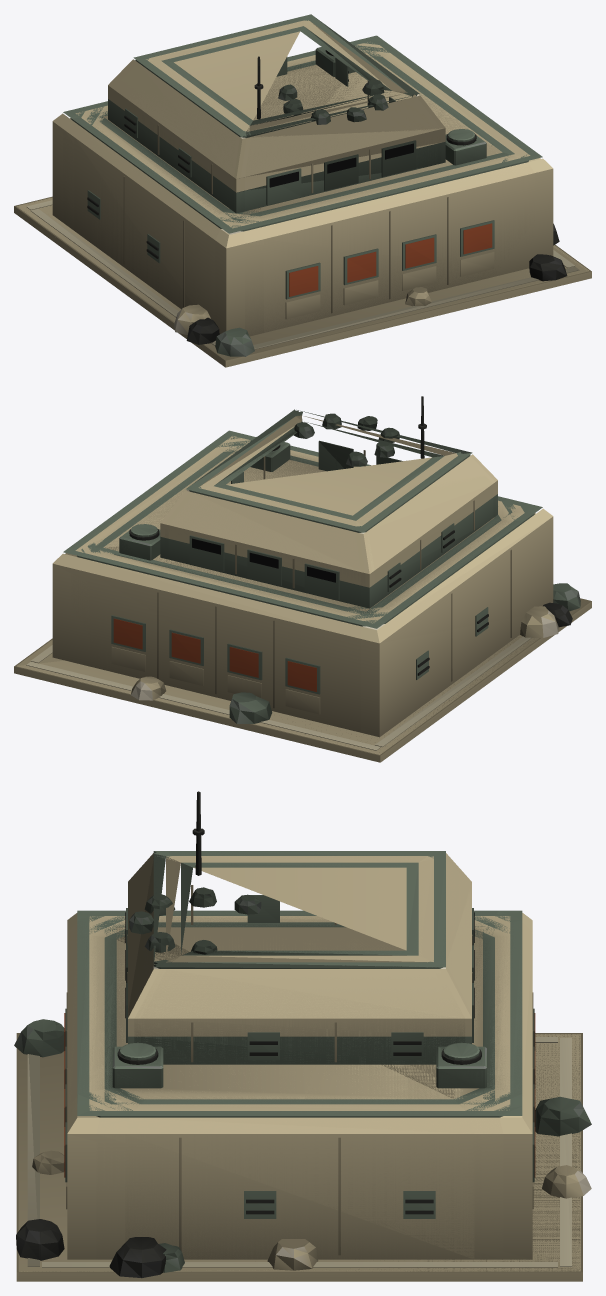
The model's file is neutral_archive_building_damaged.glb.
3 renders of one model, top to bottom at view 1: azimuth 30°, elevation 25°; view 2: azimuth 150°, elevation 25°; view 3: azimuth 270°, elevation 25°, orthographic. The views are drawn at different scales.
Visible parts, largest first — view 1: body (×3); view 2: body (×3); view 3: body (×3).
Boxes of the visible parts, <box> form: body (×3): <box>14,14,591,367</box>; body (×3): <box>14,396,591,762</box>; body (×3): <box>14,791,591,1281</box>.
Size of the model in its own units: 11.74 by 6.9 by 11.43.
